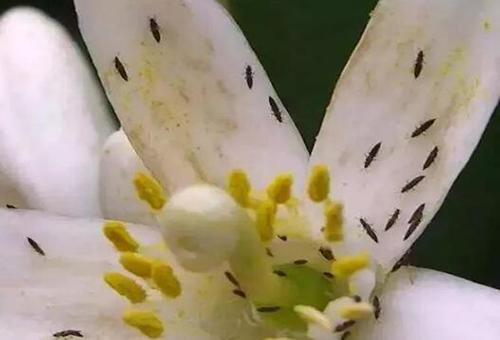thrips: (402, 214, 423, 241), (408, 117, 435, 137), (360, 217, 379, 244), (25, 234, 47, 257), (112, 55, 130, 83), (362, 141, 380, 169), (406, 199, 426, 223), (149, 15, 164, 45), (421, 145, 439, 170), (412, 48, 426, 80), (241, 63, 257, 90), (268, 96, 284, 123), (401, 175, 425, 193), (52, 327, 84, 340), (383, 208, 400, 232), (335, 318, 356, 332), (253, 304, 281, 313), (372, 297, 384, 318), (224, 271, 240, 286), (273, 268, 288, 278), (233, 288, 246, 298), (293, 258, 310, 265), (323, 270, 335, 279)
